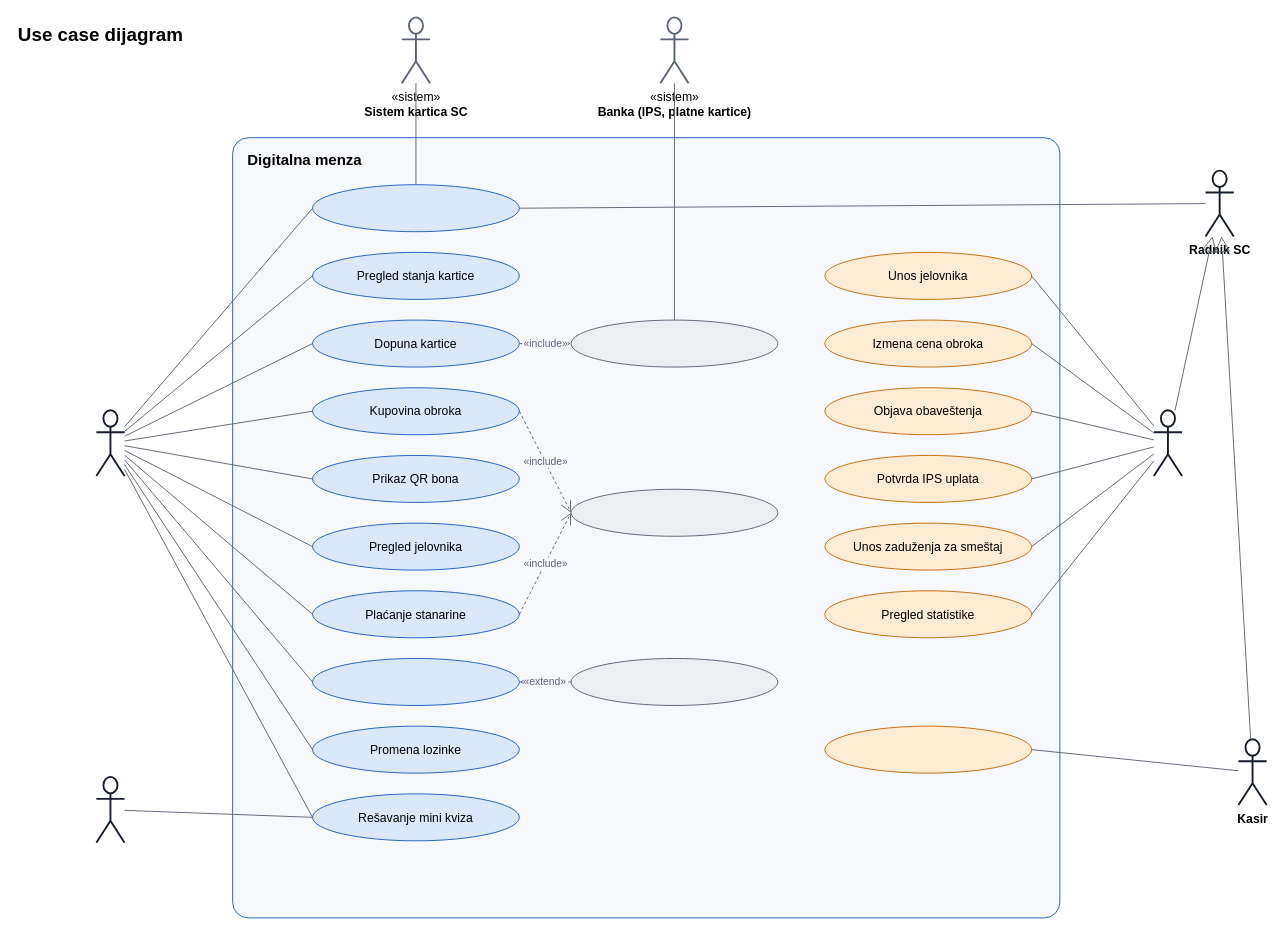
The diagram is 1284 pixels wide and 934 high, and some of its shapes have lost their labels. The shapes that lost their labels are listed below. From the top down, each one's centre as x and y in pixels, then its label:
(x=415, y=208): Prijava na sistem
(x=674, y=343): Plaćanje preko banke
(x=110, y=443): Student
(x=1167, y=443): Administrator
(x=674, y=512): Provera stanja na kartici
(x=415, y=681): Istorija transakcija
(x=674, y=681): Izvoz u PDF / CSV
(x=928, y=749): Skeniranje QR bona
(x=110, y=809): Gost / profesor
